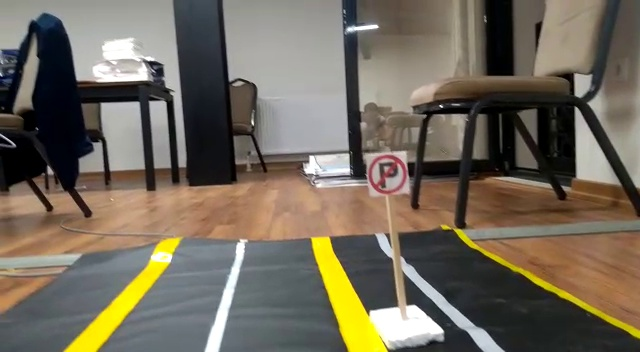park_yapilmaz: (366, 151, 409, 194)
